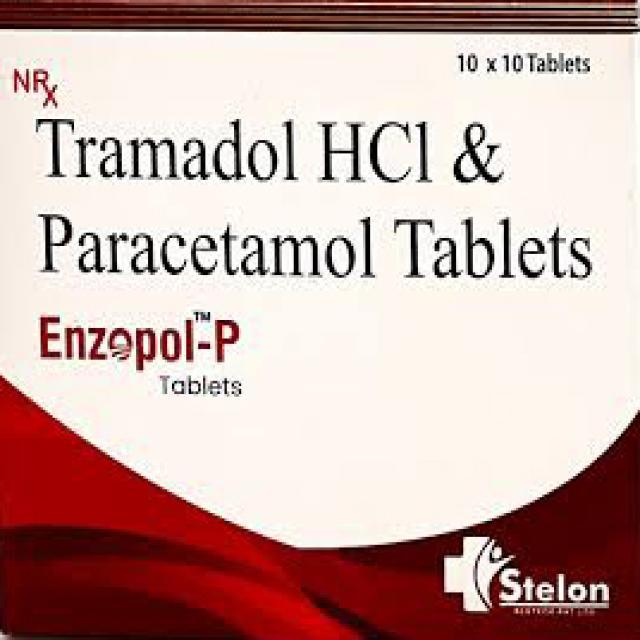drug-name: (28, 306, 242, 374)
